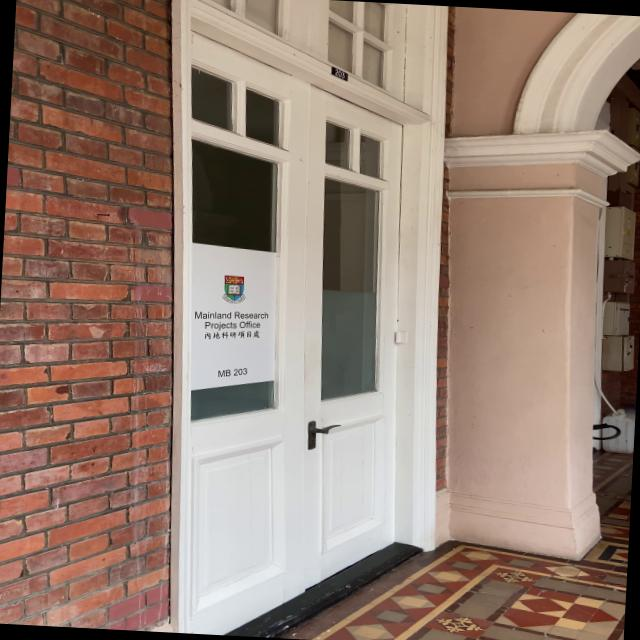room203: (329, 64, 349, 80)
room203Window: (212, 364, 254, 382)
